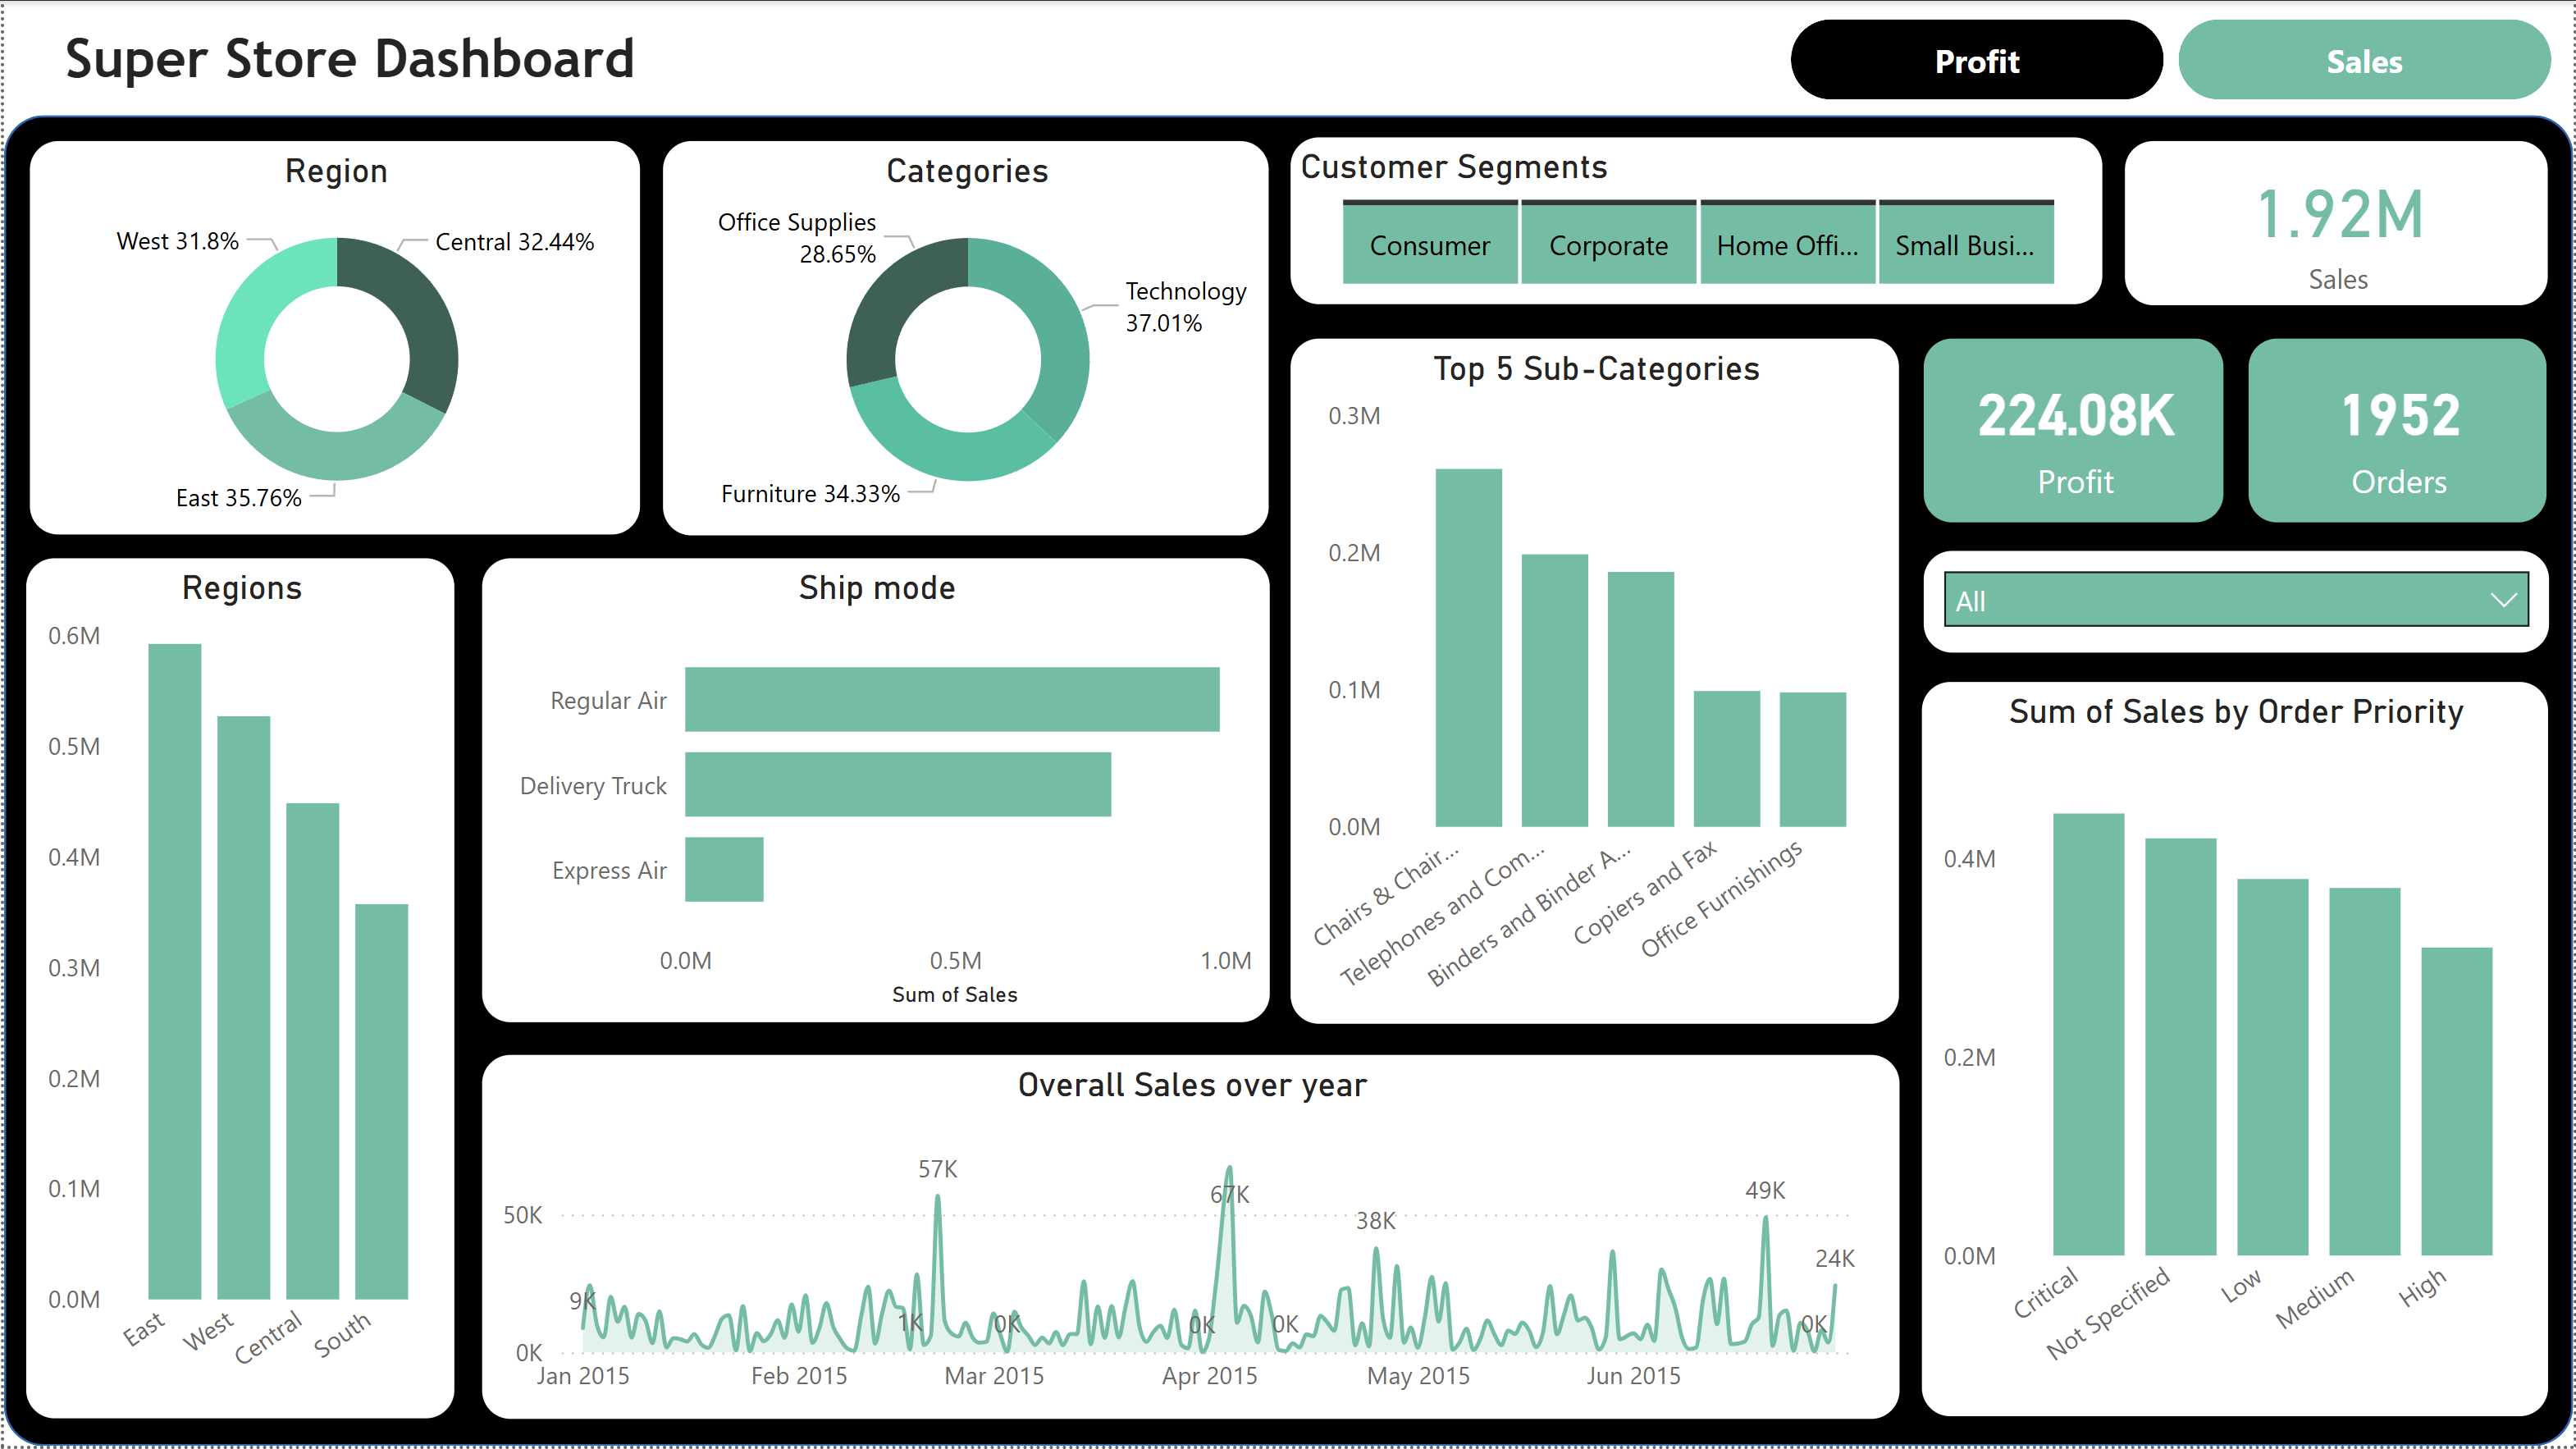

Layout of this report page (visuals, bound fields, positions):
{"tool":"powerbi","page":{"name":"Sales","canvas":[1280,720],"ordinal":1},"visuals":[{"type":"shape","box":[0,57,1280,663],"z":0},{"type":"textbox","box":[0,8,345,42],"z":1000},{"type":"donutChart","title":"Region","fields":{"Category":["Orders.Region"],"Y":["Sum(Orders.Profit)"]},"box":[12.2,68.9,305.6,197.8],"z":2000},{"type":"actionButton","box":[890,9,185.8,40],"z":3000,"group":"g1"},{"type":"group","id":"g1","title":"Group 1","box":[890,9,379,40],"z":3000},{"type":"actionButton","box":[1082.7,9,185.8,40],"z":4000,"group":"g1"},{"type":"donutChart","title":"Categories","fields":{"Category":["Orders.Product Category"],"Y":["Sum(Orders.Sales)"]},"box":[327.3,69.1,303.6,198.2],"z":4000},{"type":"areaChart","title":"Overall Sales over year","fields":{"Category":["Orders.Order Date"],"Y":["Sum(Orders.Sales)"]},"box":[237,524,708,183],"z":5000},{"type":"columnChart","title":"Regions","fields":{"Category":["Orders.Region"],"Y":["Sum(Orders.Sales)"]},"box":[10,277,215,430],"z":6000},{"type":"clusteredBarChart","title":"Ship mode","fields":{"Category":["Orders.Ship Mode"],"Y":["Sum(Orders.Sales)"]},"box":[237,277,394,233],"z":7000},{"type":"columnChart","title":"Top 5 Sub-Categories","fields":{"Category":["Orders.Product Sub-Category"],"Y":["Sum(Orders.Sales)"]},"box":[640,167,305,343],"z":8000},{"type":"slicer","title":"Customer Segments","fields":{"Values":["Orders.Customer Segment"]},"box":[640,67.5,406.2,85],"z":9000},{"type":"columnChart","fields":{"Category":["Orders.Order Priority"],"Y":["Sum(Orders.Sales)"]},"box":[955,338.8,313.8,367.5],"z":10000},{"type":"card","fields":{"Values":["Sum(Orders.Sales)"]},"box":[1056.2,68.8,212.5,83.8],"z":11000},{"type":"slicer","fields":{"Values":["Orders.State or Province"]},"box":[955.6,273.3,313.3,52.2],"z":12000},{"type":"card","fields":{"Values":["Sum(Orders.Profit)"]},"box":[955.6,167.8,151.1,93.3],"z":13000},{"type":"card","fields":{"Values":["CountNonNull(Orders.Order Date)"]},"box":[1117.8,167.8,150,93.3],"z":14000}]}

Visuals, with their boxes in screenshot pixels (x1, y1, x2, y2), scaled from the page's 1280x720 canvas onto the 2576x1449 screenshot:
shape: <region>0, 115, 2575, 1448</region>
textbox: <region>0, 16, 694, 101</region>
"Region" donutChart: <region>25, 139, 640, 537</region>
actionButton: <region>1791, 18, 2165, 98</region>
"Group 1" group: <region>1791, 18, 2554, 98</region>
actionButton: <region>2179, 18, 2553, 98</region>
"Categories" donutChart: <region>659, 139, 1270, 538</region>
"Overall Sales over year" areaChart: <region>477, 1054, 1902, 1423</region>
"Regions" columnChart: <region>21, 557, 453, 1423</region>
"Ship mode" clusteredBarChart: <region>477, 557, 1270, 1026</region>
"Top 5 Sub-Categories" columnChart: <region>1288, 336, 1902, 1026</region>
"Customer Segments" slicer: <region>1288, 136, 2105, 307</region>
columnChart - Orders.Order Priority x Sum(Orders.Sales): <region>1922, 682, 2554, 1421</region>
card - Sum(Orders.Sales): <region>2126, 139, 2553, 307</region>
slicer - Orders.State or Province: <region>1923, 550, 2554, 655</region>
card - Sum(Orders.Profit): <region>1923, 338, 2227, 525</region>
card - CountNonNull(Orders.Order Date): <region>2249, 338, 2551, 525</region>
